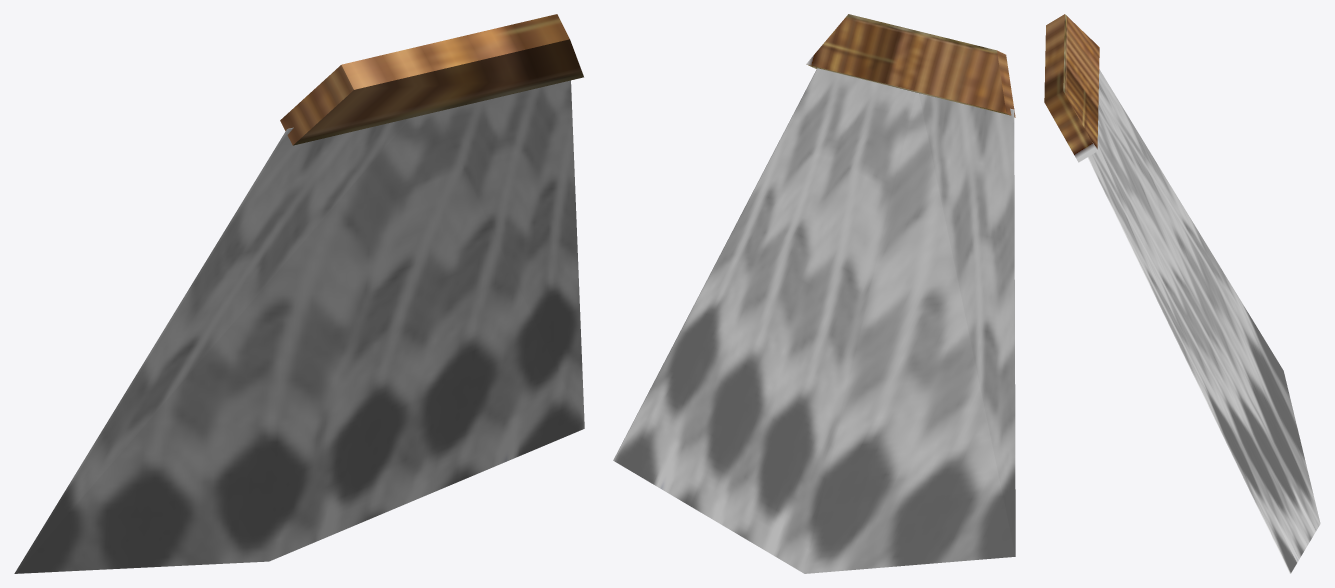
Rendered from back_bahkab_4.dae.
The picture shows the model from 3 angles, left to right: view 1: azimuth 30°, elevation 25°; view 2: azimuth 150°, elevation 25°; view 3: azimuth 270°, elevation 25°; orthographic projection. The views are drawn at different scales.
Parts seen in each view (by area): view 1: back_nobre_4; view 2: back_nobre_4; view 3: back_nobre_4.
Boxes of the visible parts, x1,y1,x2,y2 form: back_nobre_4: (14, 14, 584, 573); back_nobre_4: (613, 14, 1015, 573); back_nobre_4: (1044, 14, 1320, 573).
Size of the model in its own units: 1.46 by 0.8332 by 1.58.
